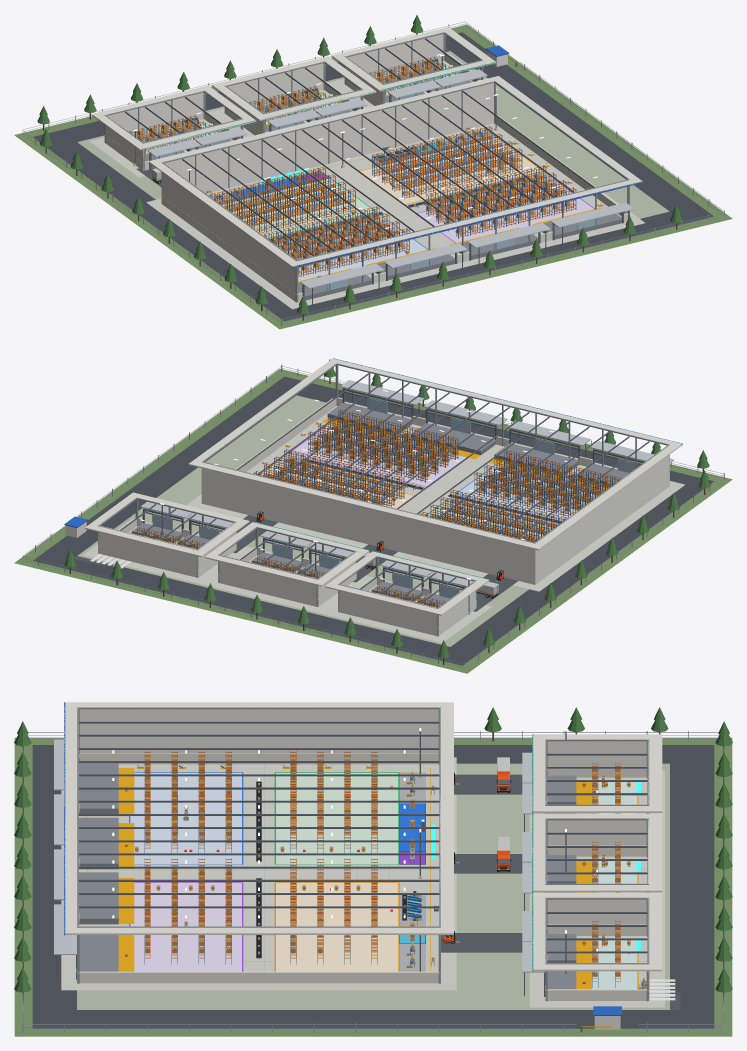
The model's file is dc_preview.glb.
3 renders of one model, top to bottom at view 1: azimuth 30°, elevation 25°; view 2: azimuth 150°, elevation 25°; view 3: azimuth 270°, elevation 25°, orthographic. The views are drawn at different scales.
Parts seen in each view (by area): view 1: SITE_ASPHALT, WALL_W_BACK, SITE_GRASS, FLOOR_W, GROUND_EXTERIOR, WALL_W_WEST, ZONE_W_D, APRON_W, ZONE_W_C, ZONE_W_B, WALL_F2_BACK, ZONE_W_A (+26 smaller); view 2: SITE_ASPHALT, WALL_W_BACK, SITE_GRASS, GROUND_EXTERIOR, FLOOR_W, WALL_W_WEST, APRON_W, ZONE_W_B, WALL_F3_BACK, WALL_F1_BACK, WALL_F2_BACK, EAVE_W_N (+26 smaller); view 3: SITE_ASPHALT, GROUND_EXTERIOR, SITE_GRASS, WALL_W_WEST, FLOOR_W, ZONE_W_C, ZONE_W_D, ZONE_W_A, ZONE_W_B, APRON_W, LWALL_W_E_0, LWALL_W_W_0 (+68 smaller).
Boxes of the visible parts, box(x1,y1,x2,y2) form: SITE_ASPHALT: box(33, 32, 713, 321); WALL_W_BACK: box(165, 81, 493, 192); SITE_GRASS: box(14, 24, 732, 329); FLOOR_W: box(207, 123, 621, 282); GROUND_EXTERIOR: box(77, 51, 669, 218); WALL_W_WEST: box(161, 163, 297, 301); ZONE_W_D: box(360, 138, 541, 204); APRON_W: box(146, 116, 645, 309); ZONE_W_C: box(222, 178, 374, 237); ZONE_W_B: box(418, 180, 593, 242); WALL_F2_BACK: box(227, 62, 323, 106); ZONE_W_A: box(279, 220, 427, 281); SITE_ASPHALT: box(33, 376, 713, 665); WALL_W_BACK: box(201, 462, 535, 584); SITE_GRASS: box(14, 369, 732, 673); GROUND_EXTERIOR: box(77, 395, 528, 646); FLOOR_W: box(246, 406, 586, 528); WALL_W_WEST: box(535, 447, 669, 584); APRON_W: box(186, 398, 684, 591); ZONE_W_B: box(291, 424, 465, 486); WALL_F3_BACK: box(98, 525, 197, 577); WALL_F1_BACK: box(338, 584, 438, 635); WALL_F2_BACK: box(218, 555, 318, 606); EAVE_W_N: box(188, 460, 543, 550); SITE_ASPHALT: box(32, 745, 714, 1028); GROUND_EXTERIOR: box(77, 763, 669, 1009); SITE_GRASS: box(14, 737, 732, 1036); WALL_W_WEST: box(79, 709, 438, 753); FLOOR_W: box(79, 764, 439, 983); ZONE_W_C: box(276, 773, 398, 864); ZONE_W_D: box(276, 883, 398, 971); ZONE_W_A: box(130, 773, 241, 864); ZONE_W_B: box(130, 883, 241, 971); APRON_W: box(61, 757, 456, 990); LWALL_W_E_0: box(79, 973, 438, 983); LWALL_W_W_0: box(79, 754, 438, 764).
Size of the model in its own units: 136 by 12.03 by 138.
